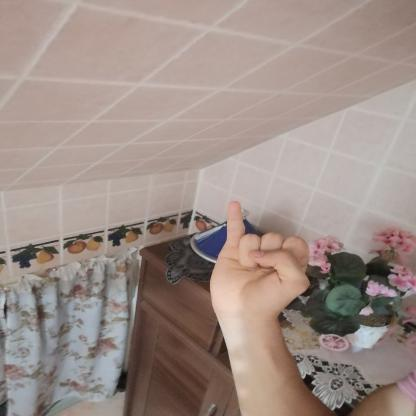MEEM: (192, 192, 324, 332)
